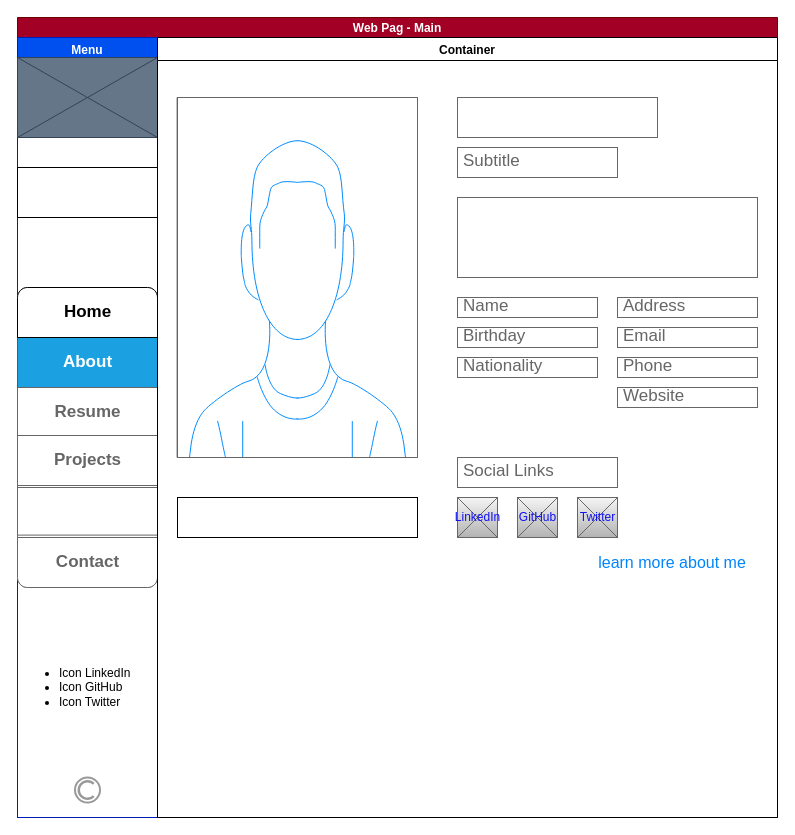
Some shapes in this 795 by 835 pixel diagram are drawn without their labels. Each missing label, with the centre of its shape:
"Description" goes at (607,237).
"DONWLOAD RESUME" goes at (297,517).
"Full Stack Web Developer" goes at (87,192).
"ICON - JR2" goes at (87,97).
"Recomendations" goes at (87,510).
"Title" goes at (557,117).
